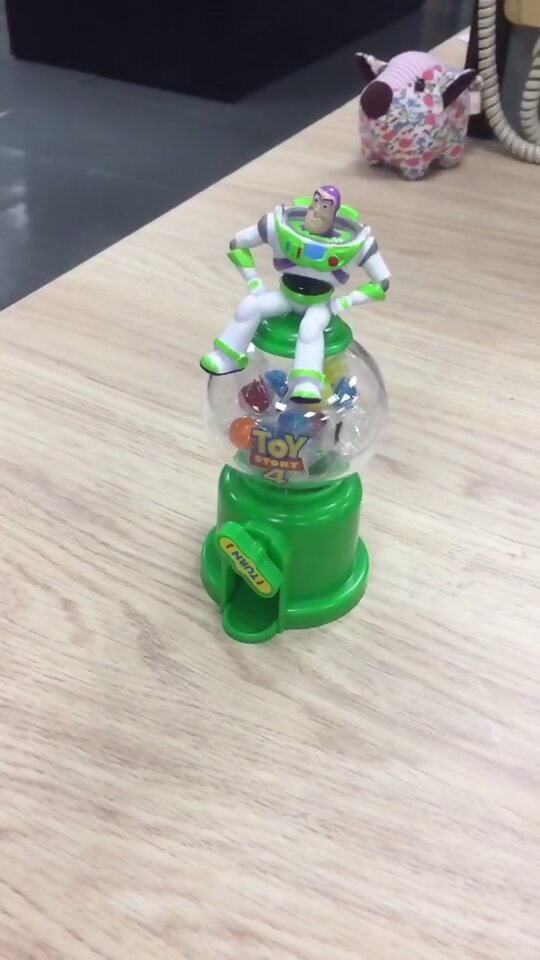buzz: (190, 182, 397, 648)
